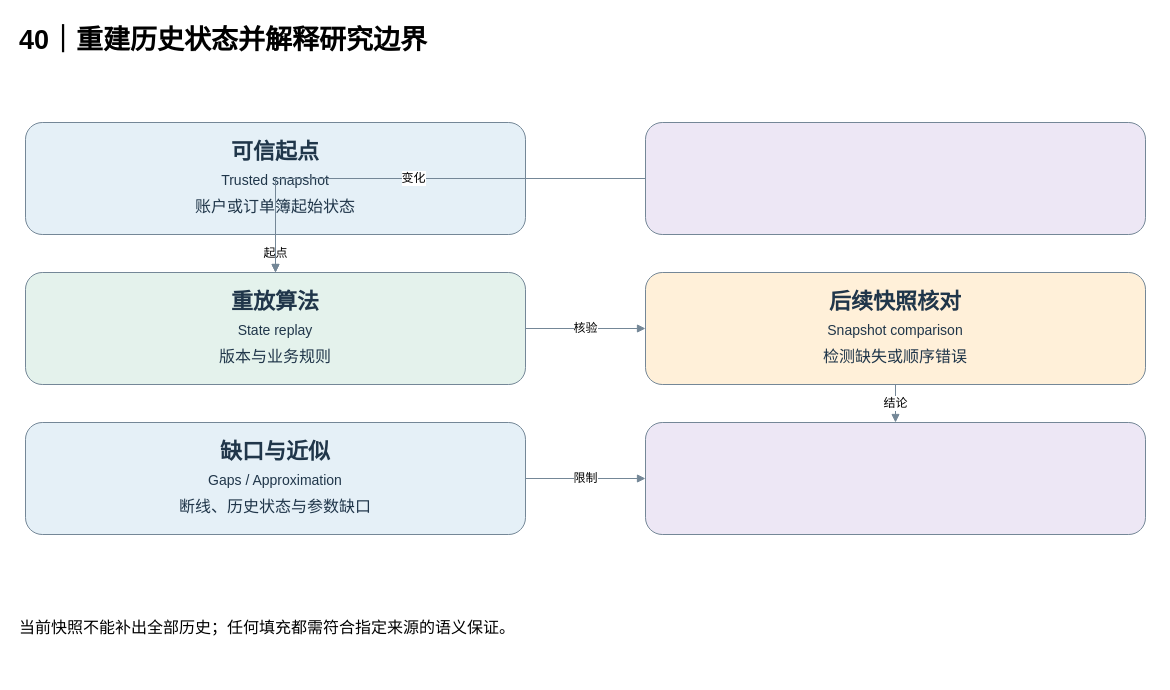
The diagram is 1170 pixels wide and 690 high, and some of its shapes have lost their labels. Here are the shapes that lost their labels. From the top down, the centre of each, then its label:
At point 895,178: "完整有序事件 Ordered complete events 新增、修改、移除与账务".
At point 895,478: "研究解释 Interpretation Direct / Reconstructed / Unknown".
